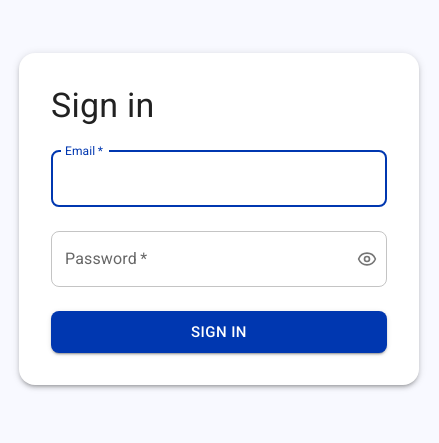
it: Login › shows the message the API sent
Type "person@example.com" into the field labelled "Email *".
click(219, 179); type("person@example.com")  # box [51,151,387,207]
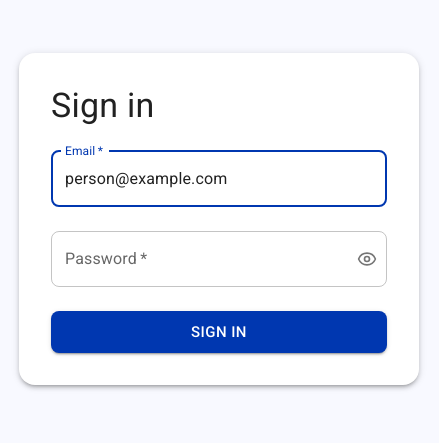
Type "secret123" into the password field labelled "Password *".
click(196, 259); type("secret123")  # box [51,231,341,287]
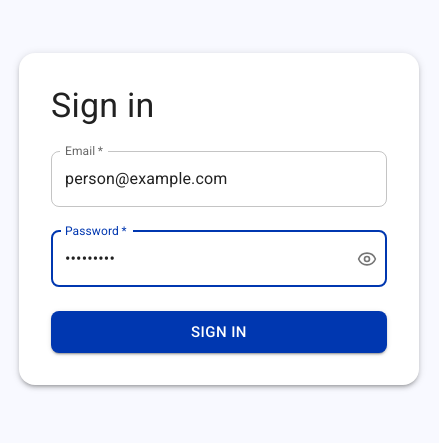
Click the button "Sign in".
click(219, 332)  # box [51,311,387,353]
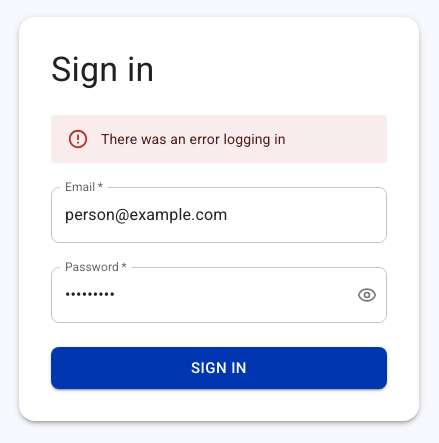
Result: the message reads "There was an error logging in" at [101,131,286,147]
